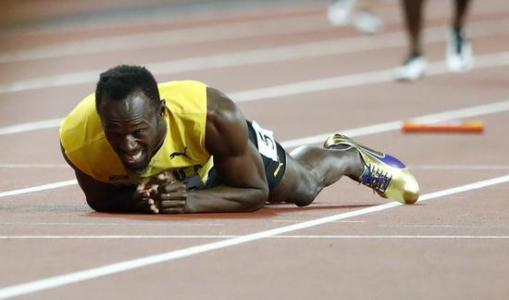fall: (59, 48, 411, 218)
